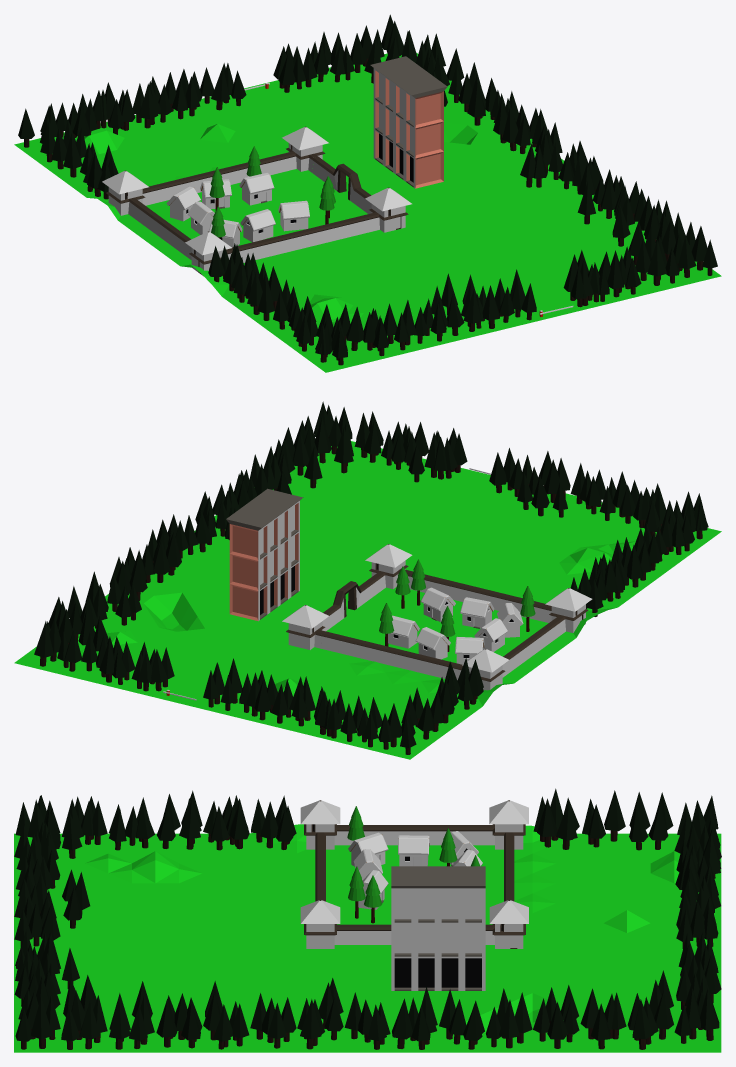
The model's file is town11.obj.
The picture shows the model from 3 angles, top to bottom: view 1: azimuth 30°, elevation 25°; view 2: azimuth 150°, elevation 25°; view 3: azimuth 270°, elevation 25°; orthographic projection. The views are drawn at different scales.
Parts seen in each view (by area): view 1: FullSquare_Mesh, SmallBit_Mesh, Cube.045_Mesh, CornerFort.001_Mesh, CornerFort.003_Mesh, CornerFort.002_Mesh, CornerFort.004_Mesh, Cube.051_Mesh, Cube.053_Mesh, Cube.054_Mesh, Cube.048_Mesh, Cube.017_Mesh (+6 smaller); view 2: FullSquare_Mesh, SmallBit_Mesh, Cube.045_Mesh, CornerFort.002_Mesh, CornerFort.004_Mesh, CornerFort.001_Mesh, CornerFort.003_Mesh, Cube.051_Mesh, Cube.049_Mesh, Cube.054_Mesh, Cube.053_Mesh, Cube.004_Mesh (+7 smaller); view 3: FullSquare_Mesh, SmallBit_Mesh, Cube.045_Mesh, CornerFort.001_Mesh, CornerFort.002_Mesh, CornerFort.004_Mesh, CornerFort.003_Mesh, Cube.033_Mesh, Cube.050_Mesh, Cube.052_Mesh, Cube.021_Mesh, Cube.020_Mesh (+44 smaller).
Boxes of the visible parts, bbox=[...] form: FullSquare_Mesh: bbox=[14, 53, 615, 311]; SmallBit_Mesh: bbox=[243, 221, 721, 372]; Cube.045_Mesh: bbox=[370, 56, 447, 188]; CornerFort.001_Mesh: bbox=[365, 187, 411, 232]; CornerFort.003_Mesh: bbox=[102, 170, 148, 215]; CornerFort.002_Mesh: bbox=[282, 126, 328, 171]; CornerFort.004_Mesh: bbox=[185, 231, 231, 276]; Cube.051_Mesh: bbox=[240, 209, 275, 242]; Cube.053_Mesh: bbox=[239, 172, 274, 205]; Cube.054_Mesh: bbox=[278, 200, 309, 231]; Cube.048_Mesh: bbox=[166, 186, 200, 221]; Cube.017_Mesh: bbox=[334, 214, 372, 239]; FullSquare_Mesh: bbox=[14, 509, 638, 759]; SmallBit_Mesh: bbox=[272, 441, 721, 592]; Cube.045_Mesh: bbox=[226, 488, 303, 621]; CornerFort.002_Mesh: bbox=[282, 605, 328, 649]; CornerFort.004_Mesh: bbox=[545, 588, 592, 632]; CornerFort.001_Mesh: bbox=[365, 544, 412, 589]; CornerFort.003_Mesh: bbox=[462, 649, 508, 690]; Cube.051_Mesh: bbox=[460, 597, 494, 628]; Cube.049_Mesh: bbox=[415, 627, 450, 659]; Cube.054_Mesh: bbox=[420, 587, 455, 622]; Cube.053_Mesh: bbox=[388, 615, 419, 648]; Cube.004_Mesh: bbox=[321, 631, 360, 657]; FullSquare_Mesh: bbox=[202, 824, 721, 1052]; SmallBit_Mesh: bbox=[14, 833, 202, 1052]; Cube.045_Mesh: bbox=[391, 866, 485, 990]; CornerFort.001_Mesh: bbox=[300, 900, 340, 948]; CornerFort.002_Mesh: bbox=[489, 900, 528, 948]; CornerFort.004_Mesh: bbox=[300, 800, 340, 849]; CornerFort.003_Mesh: bbox=[489, 800, 528, 849]; Cube.033_Mesh: bbox=[344, 924, 391, 944]; Cube.050_Mesh: bbox=[398, 835, 429, 866]; Cube.052_Mesh: bbox=[348, 832, 388, 866]; Cube.021_Mesh: bbox=[391, 825, 438, 845]; Cube.020_Mesh: bbox=[438, 825, 485, 845].
Size of the model in its own units: 110 by 28.4 by 150.
